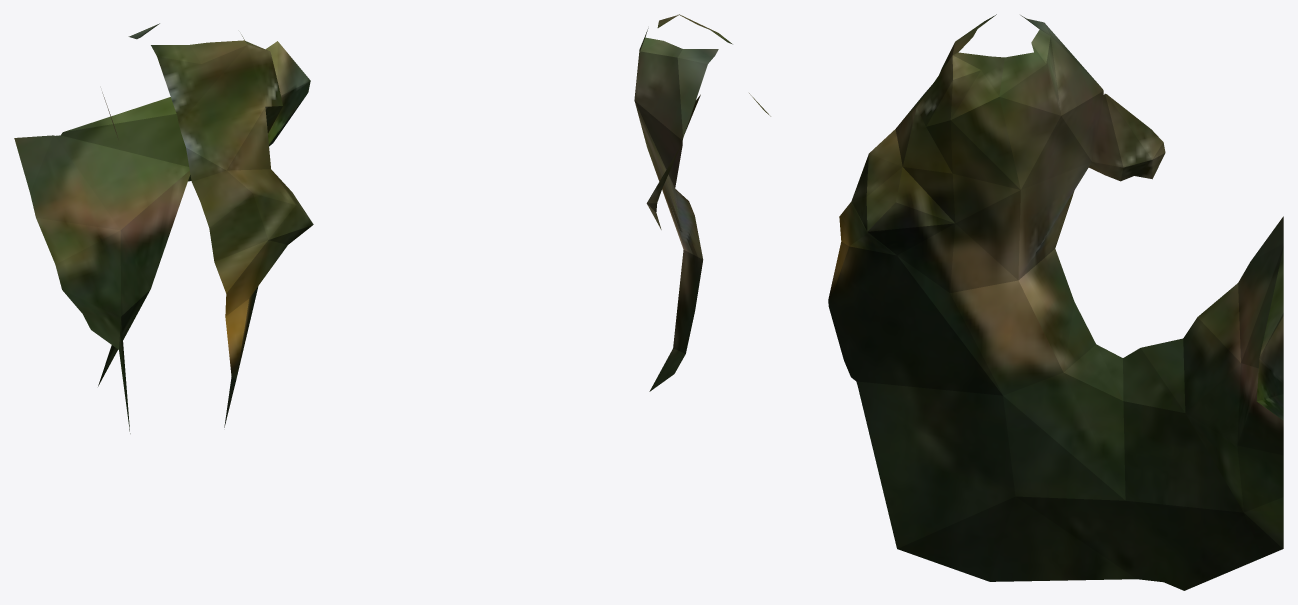
3 renders of one model, left to right at view 1: azimuth 30°, elevation 25°; view 2: azimuth 150°, elevation 25°; view 3: azimuth 270°, elevation 25°, orthographic. The views are drawn at different scales.
Size of the model in its own units: 0.2715 by 0.482 by 0.3446.
1 material, 1 textured.
